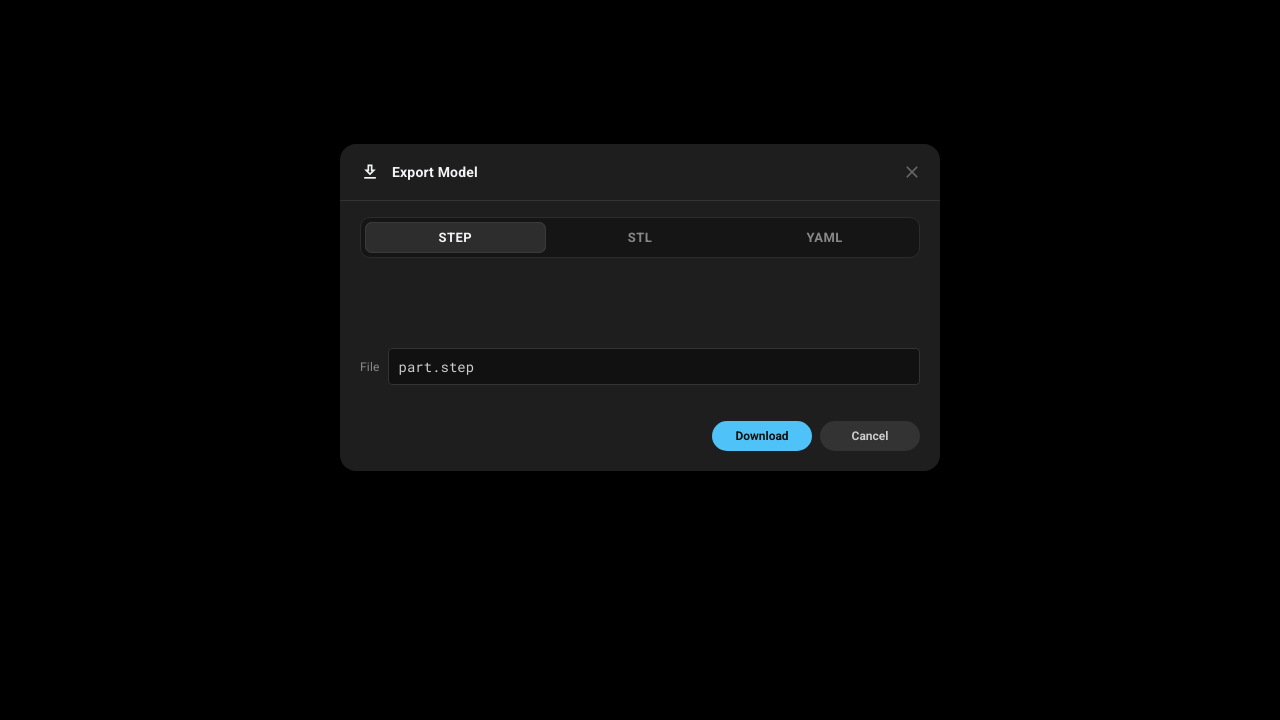
Test case: ExportDialog › re-adds the extension when the user deleted it
Replace the text in the field showing "part.step" with "bracket" at [654, 366], box x1=388 y1=348 x2=920 y2=385
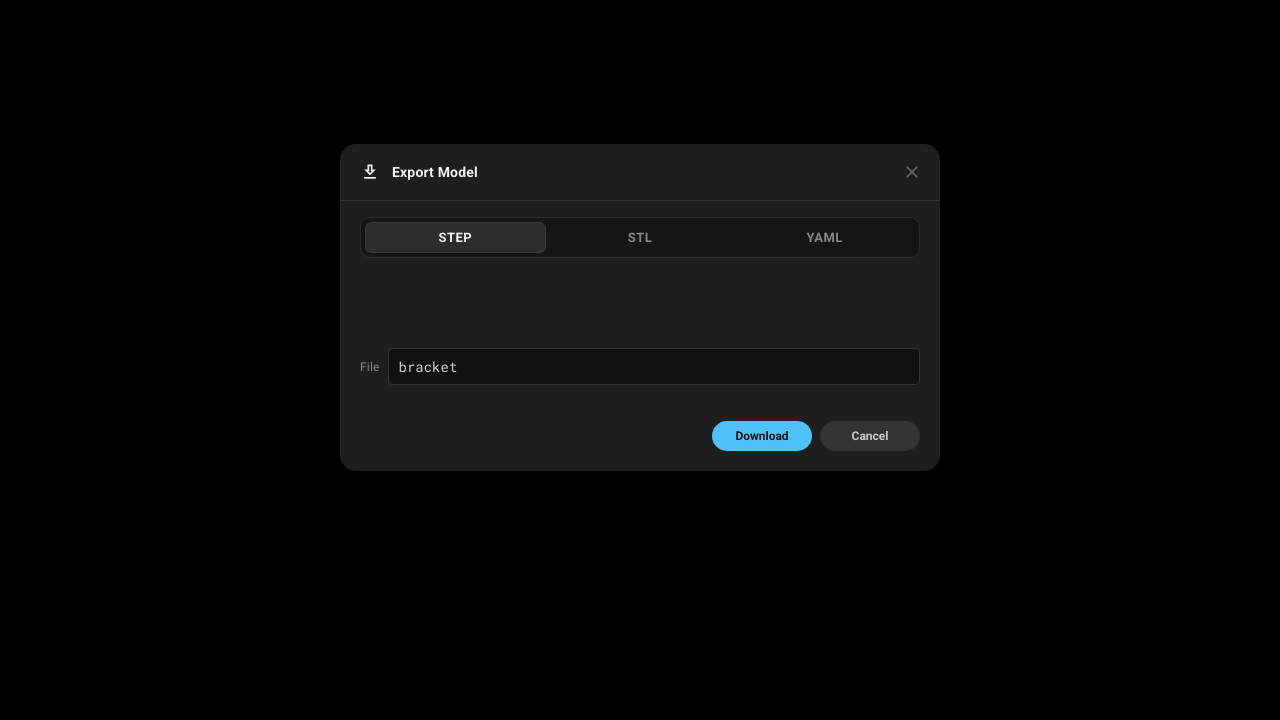
Click the button "Download" at [762, 436], box x1=712 y1=421 x2=812 y2=451
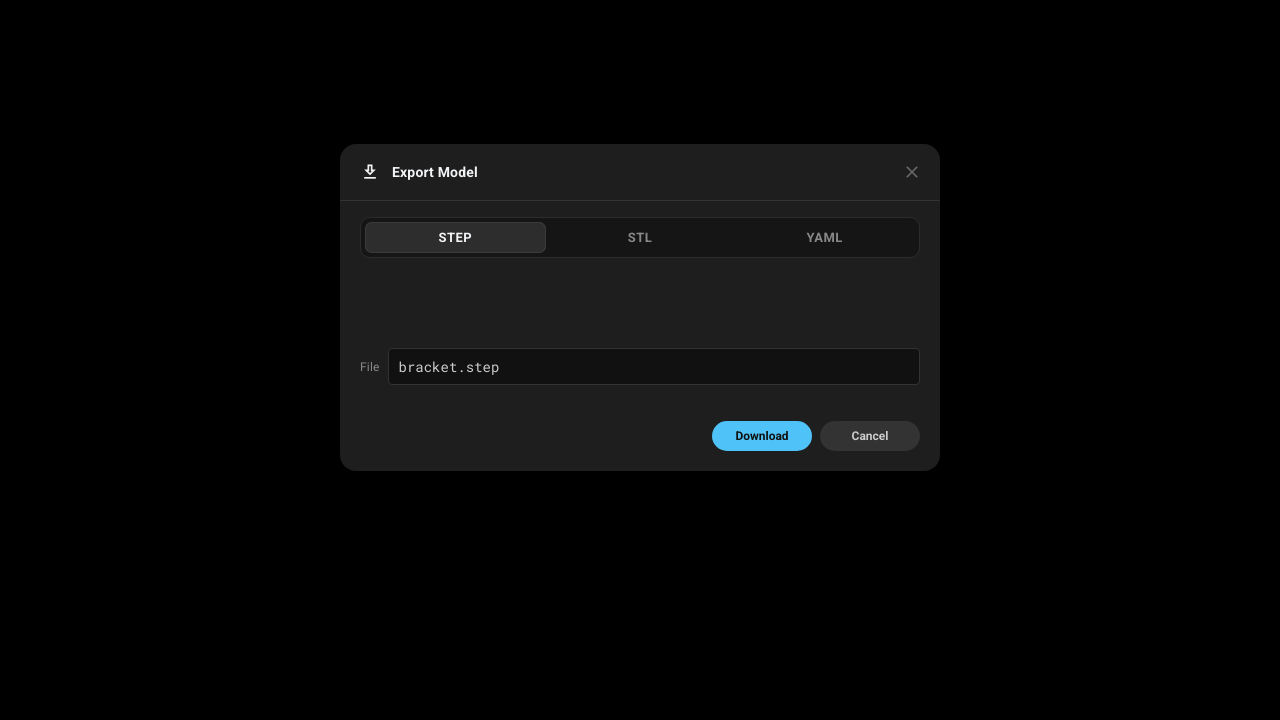
Expected: the field showing "bracket.step" is shown, x1=388 y1=348 x2=920 y2=385
